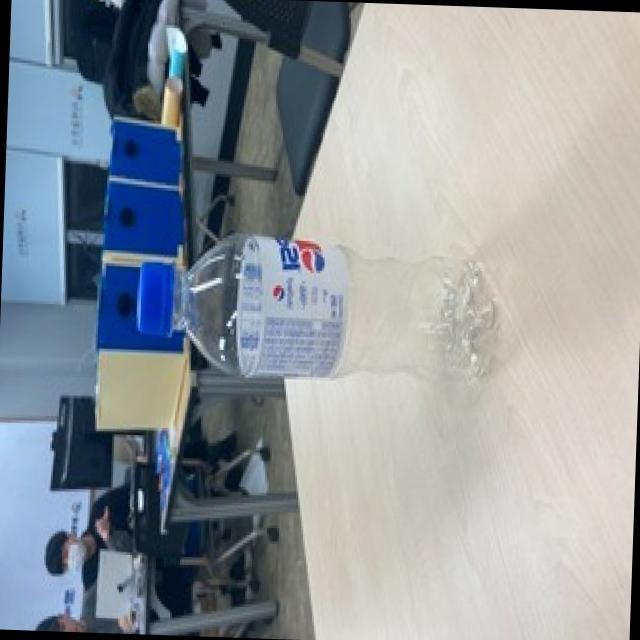good: (124, 222, 523, 390)
